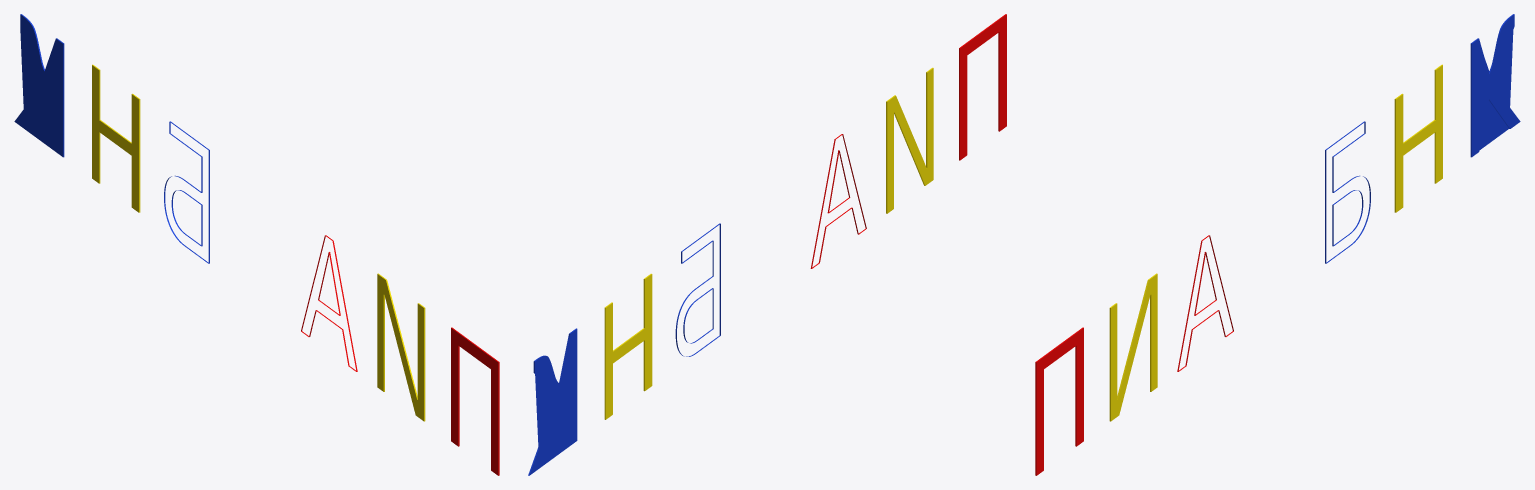
Rendered from tnk-10.dae.
3 renders of one model, left to right at view 1: azimuth 30°, elevation 25°; view 2: azimuth 150°, elevation 25°; view 3: azimuth 330°, elevation 25°, orthographic.
Parts seen in each view (by area): view 1: К.1, И.1, Н.1, П.1, Б.1, А.1; view 2: К.1, И.1, Н.1, П.1, Б.1, А.1; view 3: К.1, И.1, Н.1, П.1, Б.1, А.1.
Part boxes in pixels (box(x1,y1,x2,y2)): К.1: box(14, 14, 64, 157); И.1: box(377, 273, 425, 421); Н.1: box(92, 64, 140, 212); П.1: box(451, 327, 499, 475); Б.1: box(164, 121, 209, 263); А.1: box(301, 235, 357, 371); К.1: box(528, 328, 577, 475); И.1: box(886, 67, 933, 213); Н.1: box(604, 273, 652, 419); П.1: box(959, 14, 1006, 160); Б.1: box(675, 223, 720, 356); А.1: box(810, 134, 866, 268); К.1: box(1470, 14, 1520, 157); И.1: box(1109, 273, 1157, 421); Н.1: box(1394, 64, 1442, 212); П.1: box(1035, 327, 1083, 475); Б.1: box(1325, 121, 1370, 263); А.1: box(1177, 235, 1233, 371).
Size of the model in its own units: 1 by 86.96 by 672.
